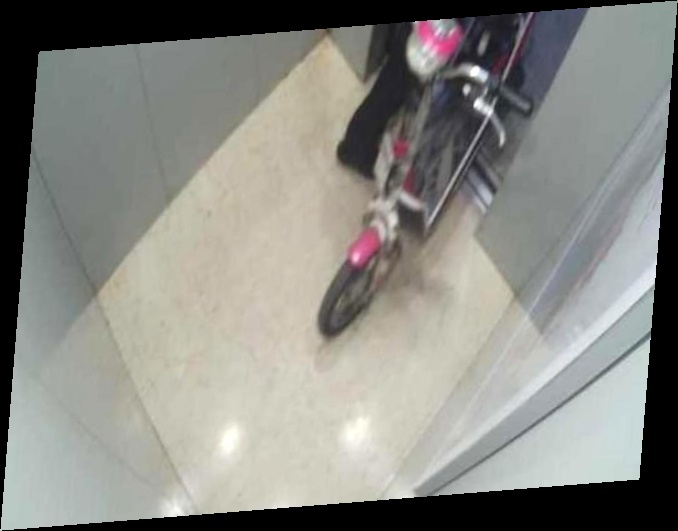electromobile: (313, 20, 532, 348)
